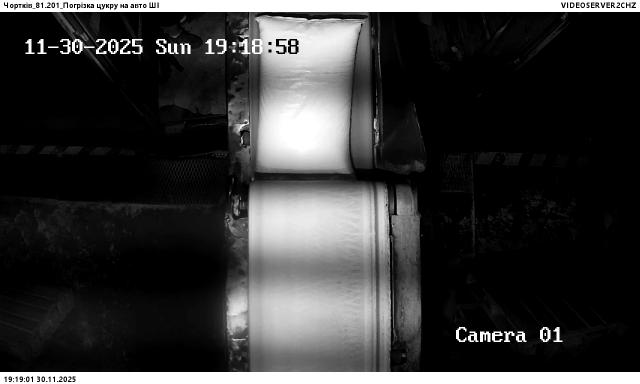bag: (256, 16, 366, 173)
